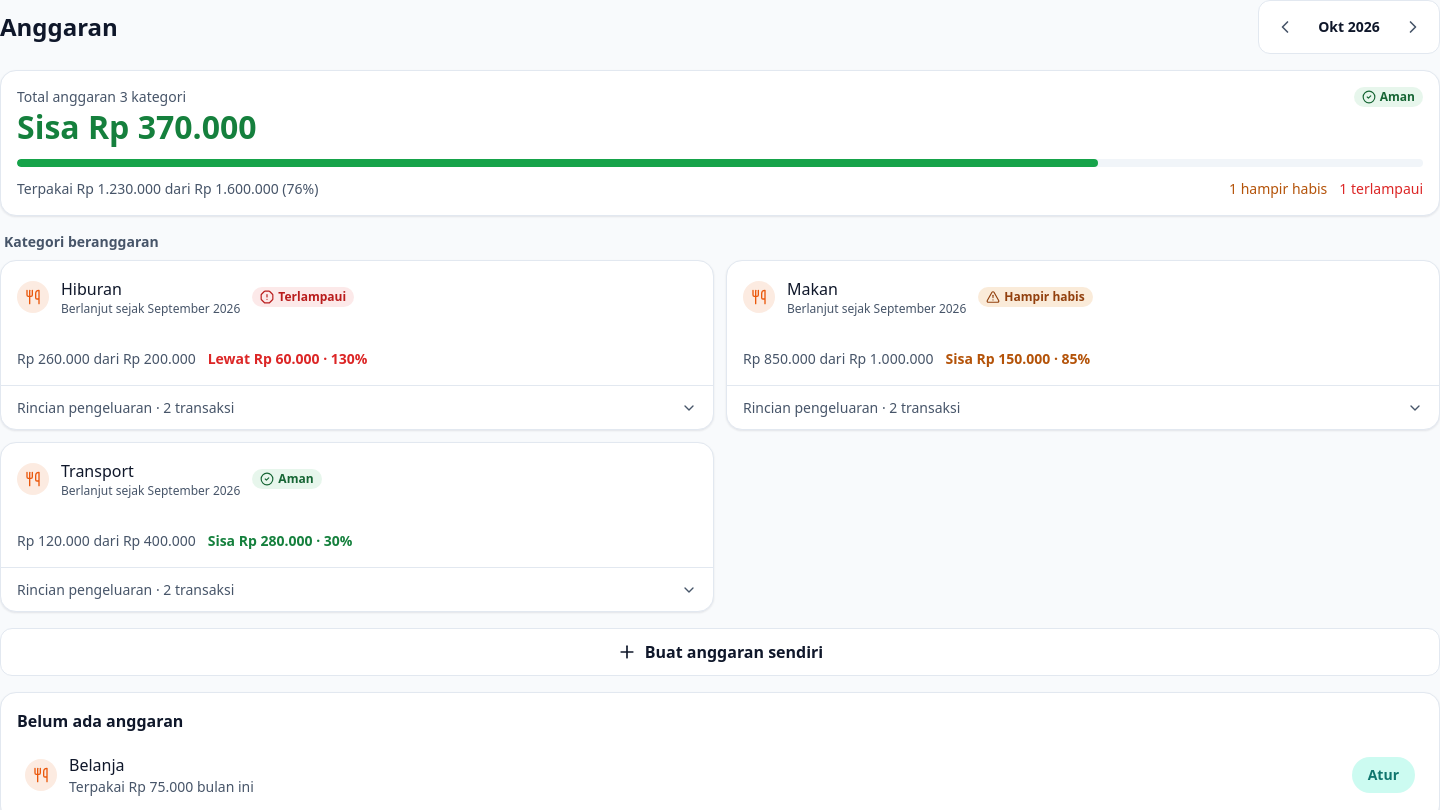
Test: BudgetsPage › kategori tanpa anggaran bisa langsung diatur lewat dialog
Click the button "Belanja Terpakai Rp 75.000 bulan ini Atur" at coordinates (41, 775), box [17,745,1423,805]
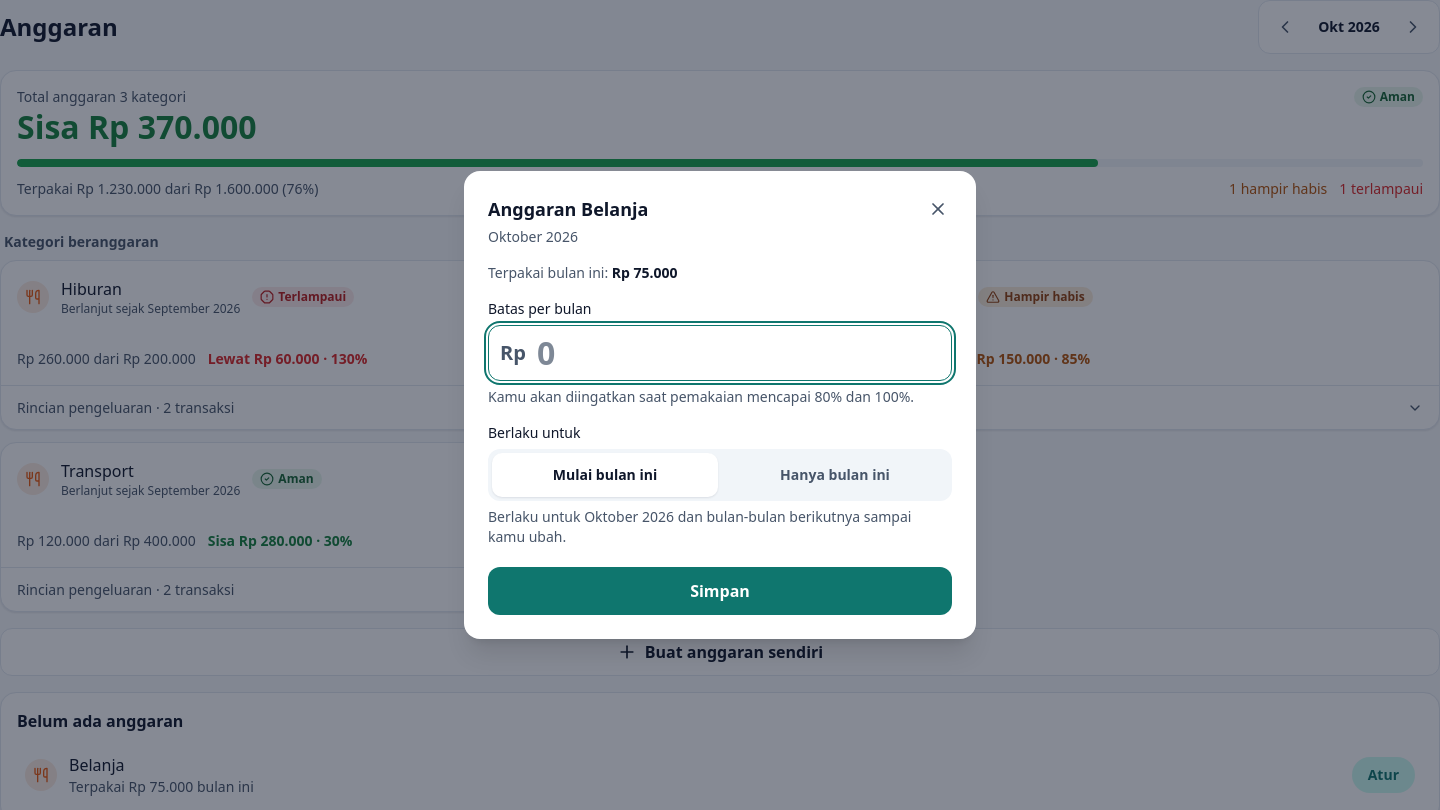
Click the button "Simpan" at coordinates (720, 591), box [488,567,952,615]
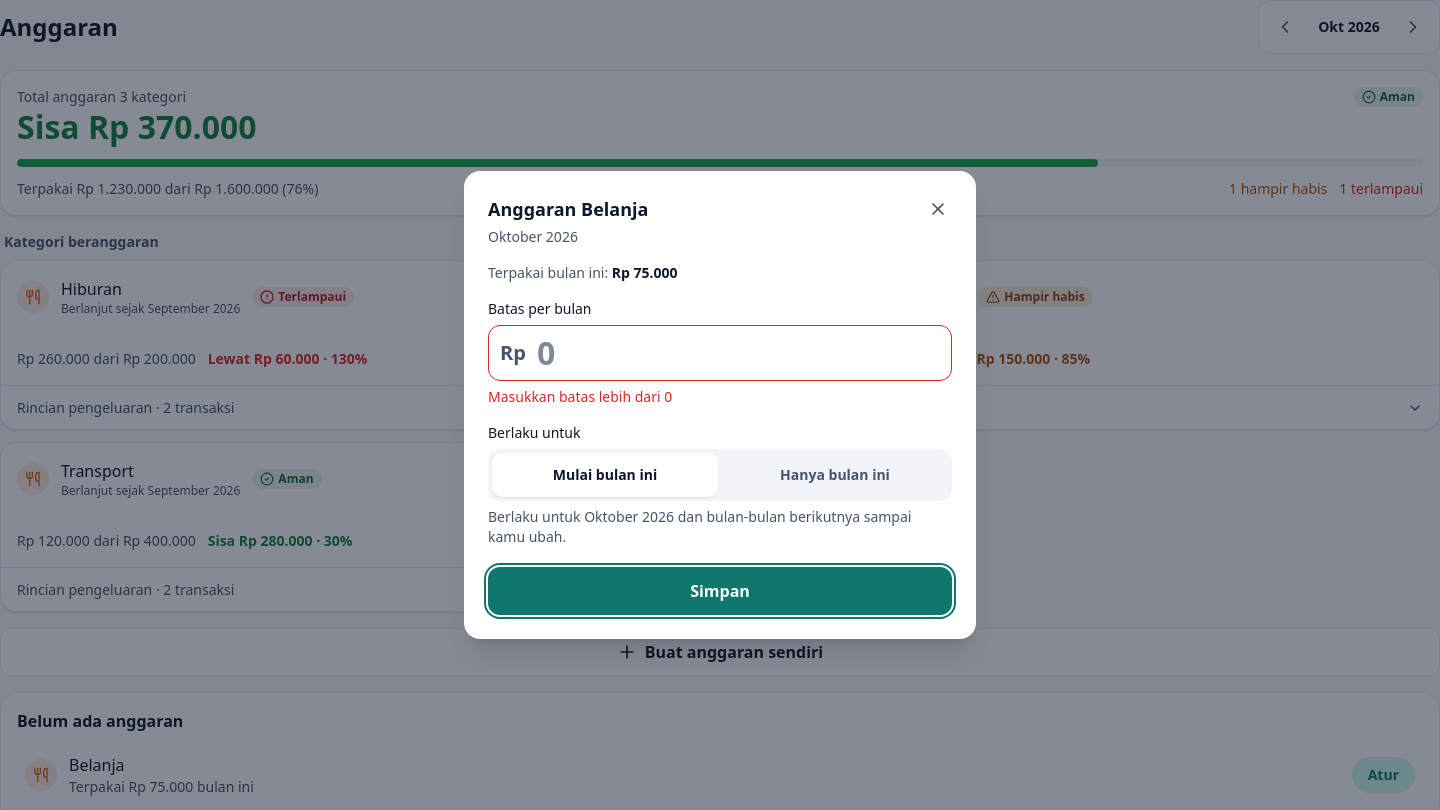
Now the text "Masukkan batas lebih dari 0" is shown, box [488,387,672,406]
Type "300000" into the field labelled "Batas per bulan" at coordinates (720, 353), box [488,325,952,381]
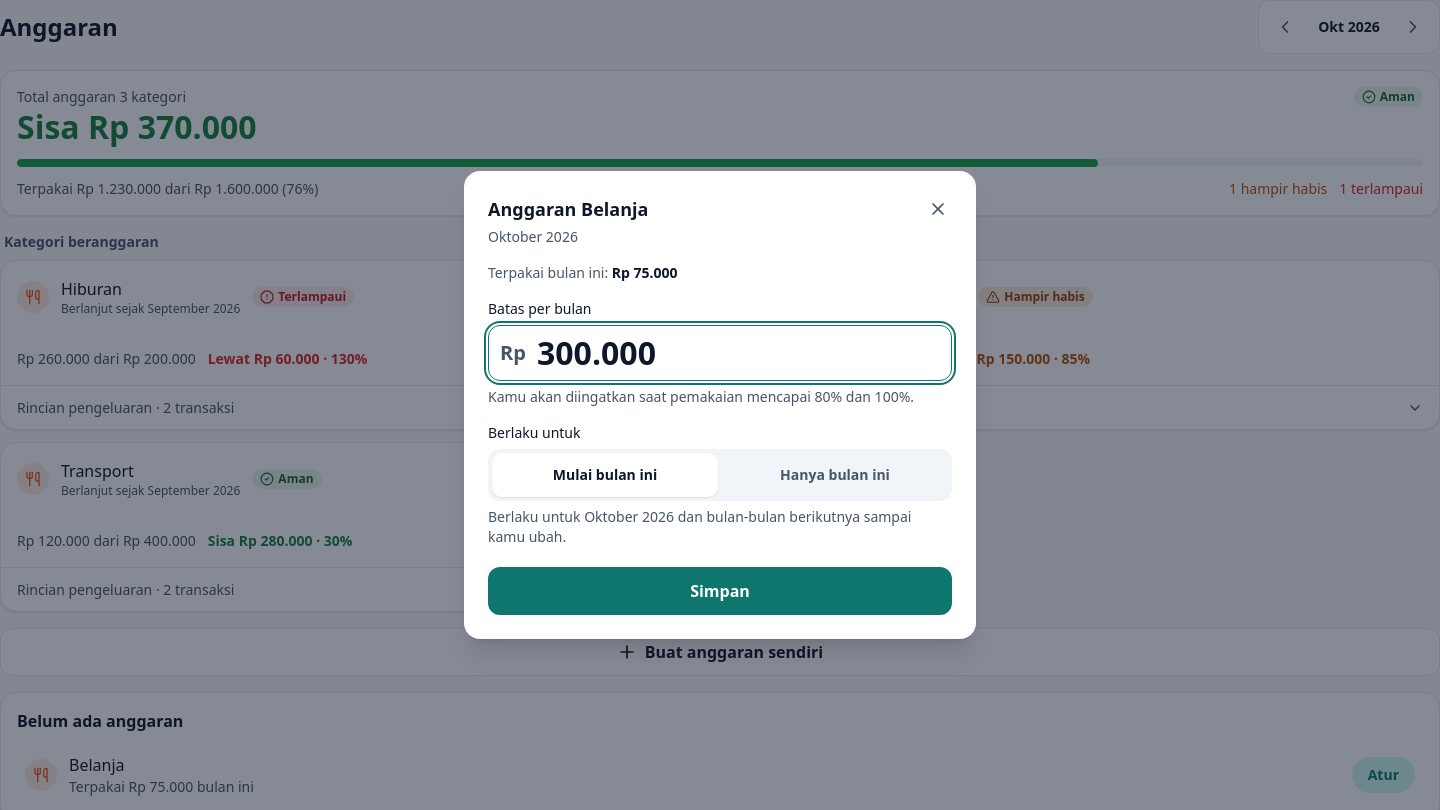
Click the button "Simpan" at coordinates (720, 591), box [488,567,952,615]
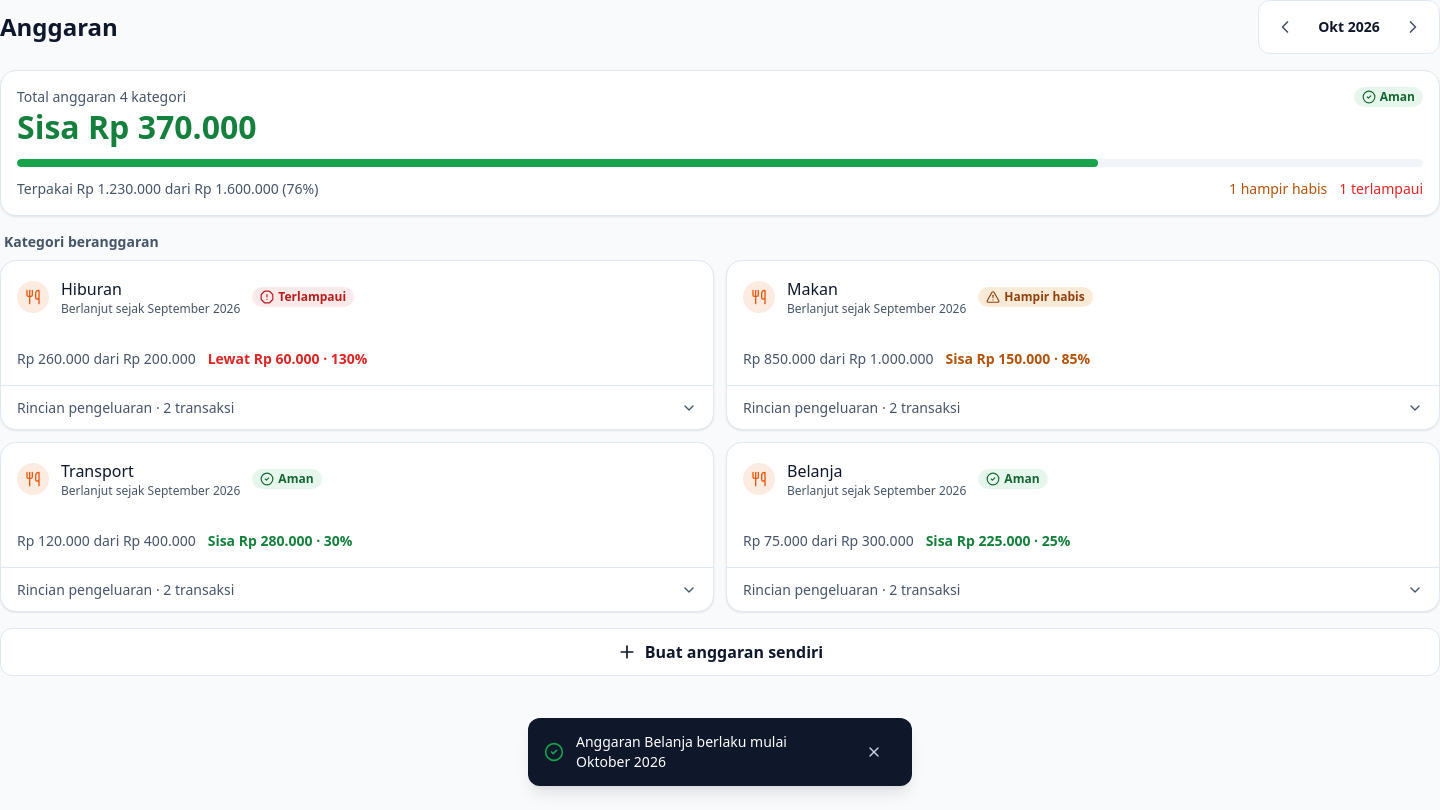
Now the button with aria-label "Ubah anggaran Belanja" is shown, box [727,443,1439,567]
